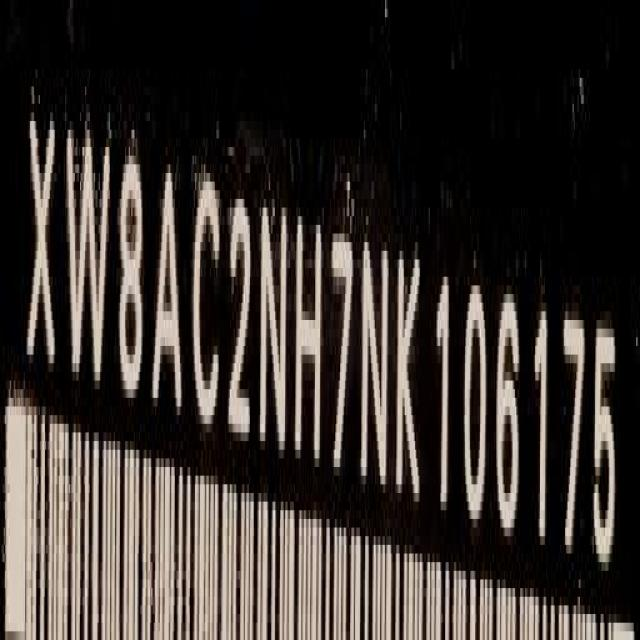0: (461, 259, 486, 533)
1: (432, 246, 452, 528), (533, 287, 551, 558)
2: (226, 185, 252, 454)
5: (594, 306, 621, 578)
6: (496, 282, 524, 546)
7: (329, 214, 354, 488), (560, 297, 584, 573)
8: (119, 144, 145, 416)
A: (152, 154, 182, 428)
C: (193, 166, 223, 444)
H: (297, 203, 324, 472)
K: (394, 246, 424, 506)
N: (360, 221, 389, 499), (262, 199, 290, 465)
W: (65, 118, 113, 402)
X: (24, 100, 58, 390)
